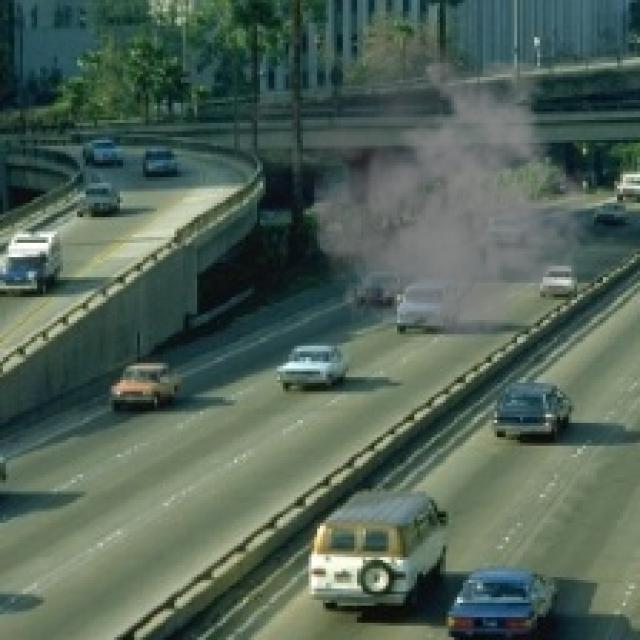Smoke: (212, 20, 597, 363)
